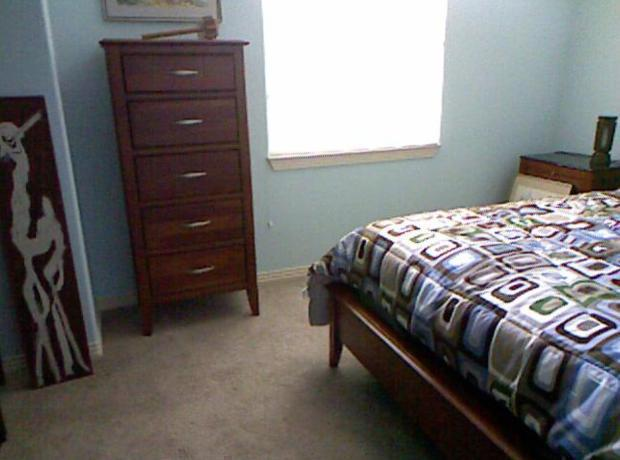Armario: (111, 38, 257, 332)
